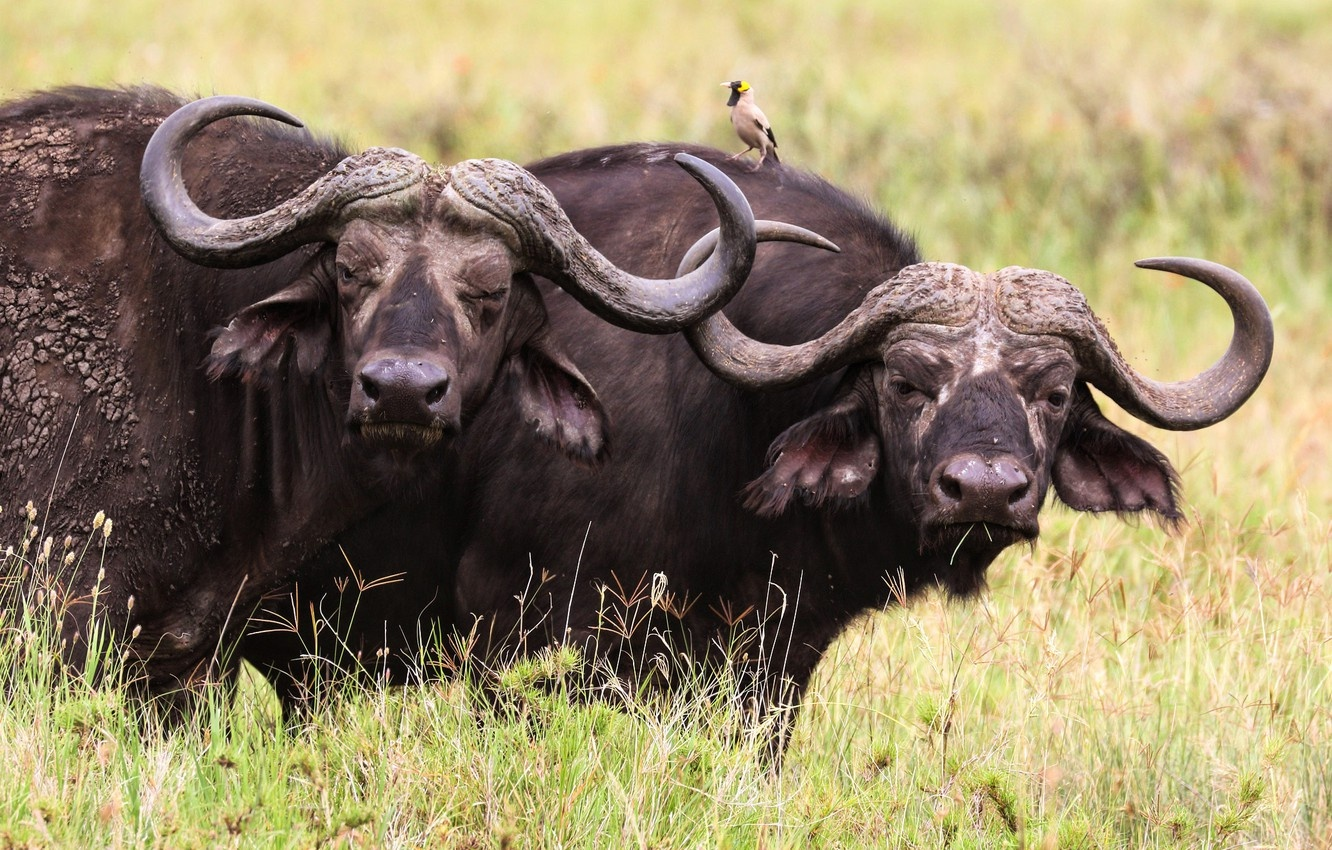buffalo: (428, 137, 1270, 789), (3, 83, 757, 753)
